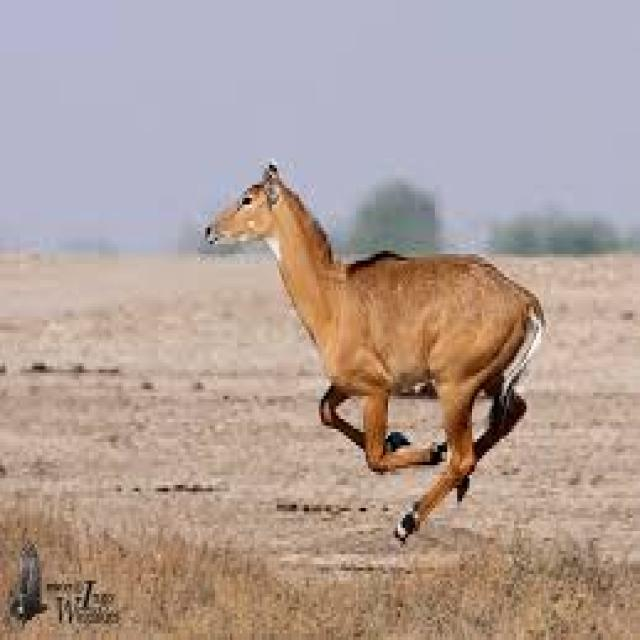objects: (168, 158, 585, 546)
